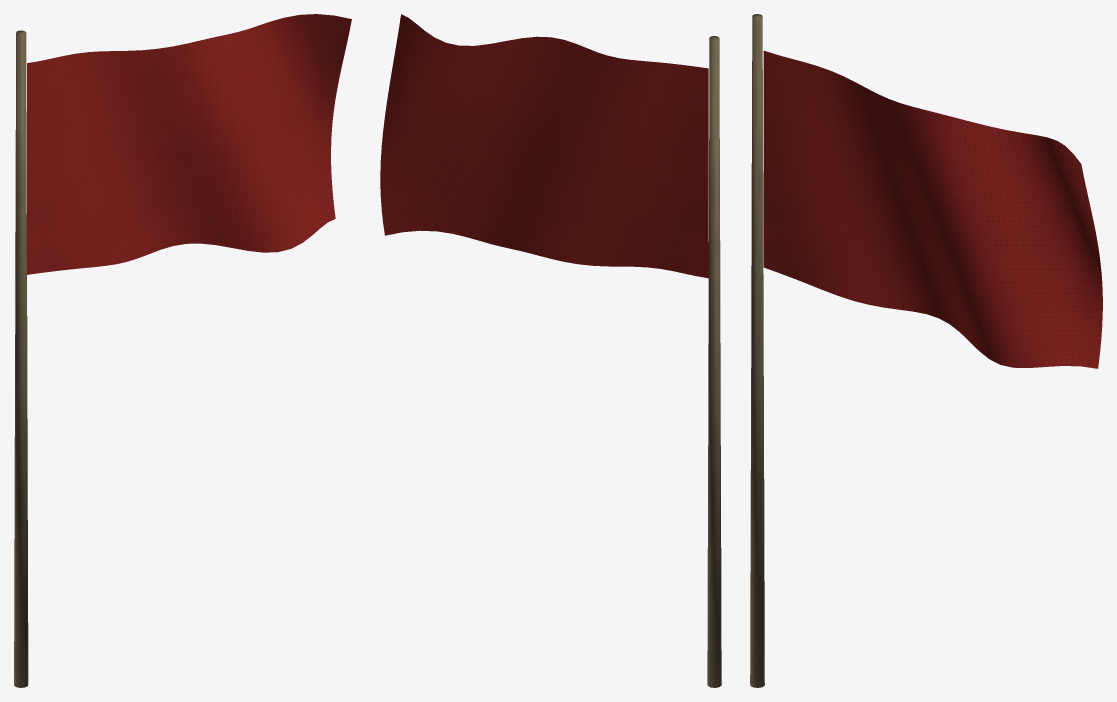
The model's file is prop_red_flag.glb.
3 views of the same model, side by side, from view 1: azimuth 30°, elevation 25°; view 2: azimuth 150°, elevation 25°; view 3: azimuth 330°, elevation 25° (orthographic). The views are drawn at different scales.
Parts seen in each view (by area): view 1: flag_cloth__unlettered_red_cloth, wooden_pole__pole; view 2: flag_cloth__unlettered_red_cloth, wooden_pole__pole; view 3: flag_cloth__unlettered_red_cloth, wooden_pole__pole.
Part boxes in pixels (box(x1,y1,x2,y2)): flag_cloth__unlettered_red_cloth: box(27, 14, 351, 274); wooden_pole__pole: box(14, 30, 28, 687); flag_cloth__unlettered_red_cloth: box(380, 14, 708, 278); wooden_pole__pole: box(707, 36, 721, 687); flag_cloth__unlettered_red_cloth: box(763, 50, 1102, 368); wooden_pole__pole: box(750, 14, 764, 687).
Size of the model in its own units: 1.4 by 2.65 by 0.1764.
Materials: 2 (2 with a texture image).
